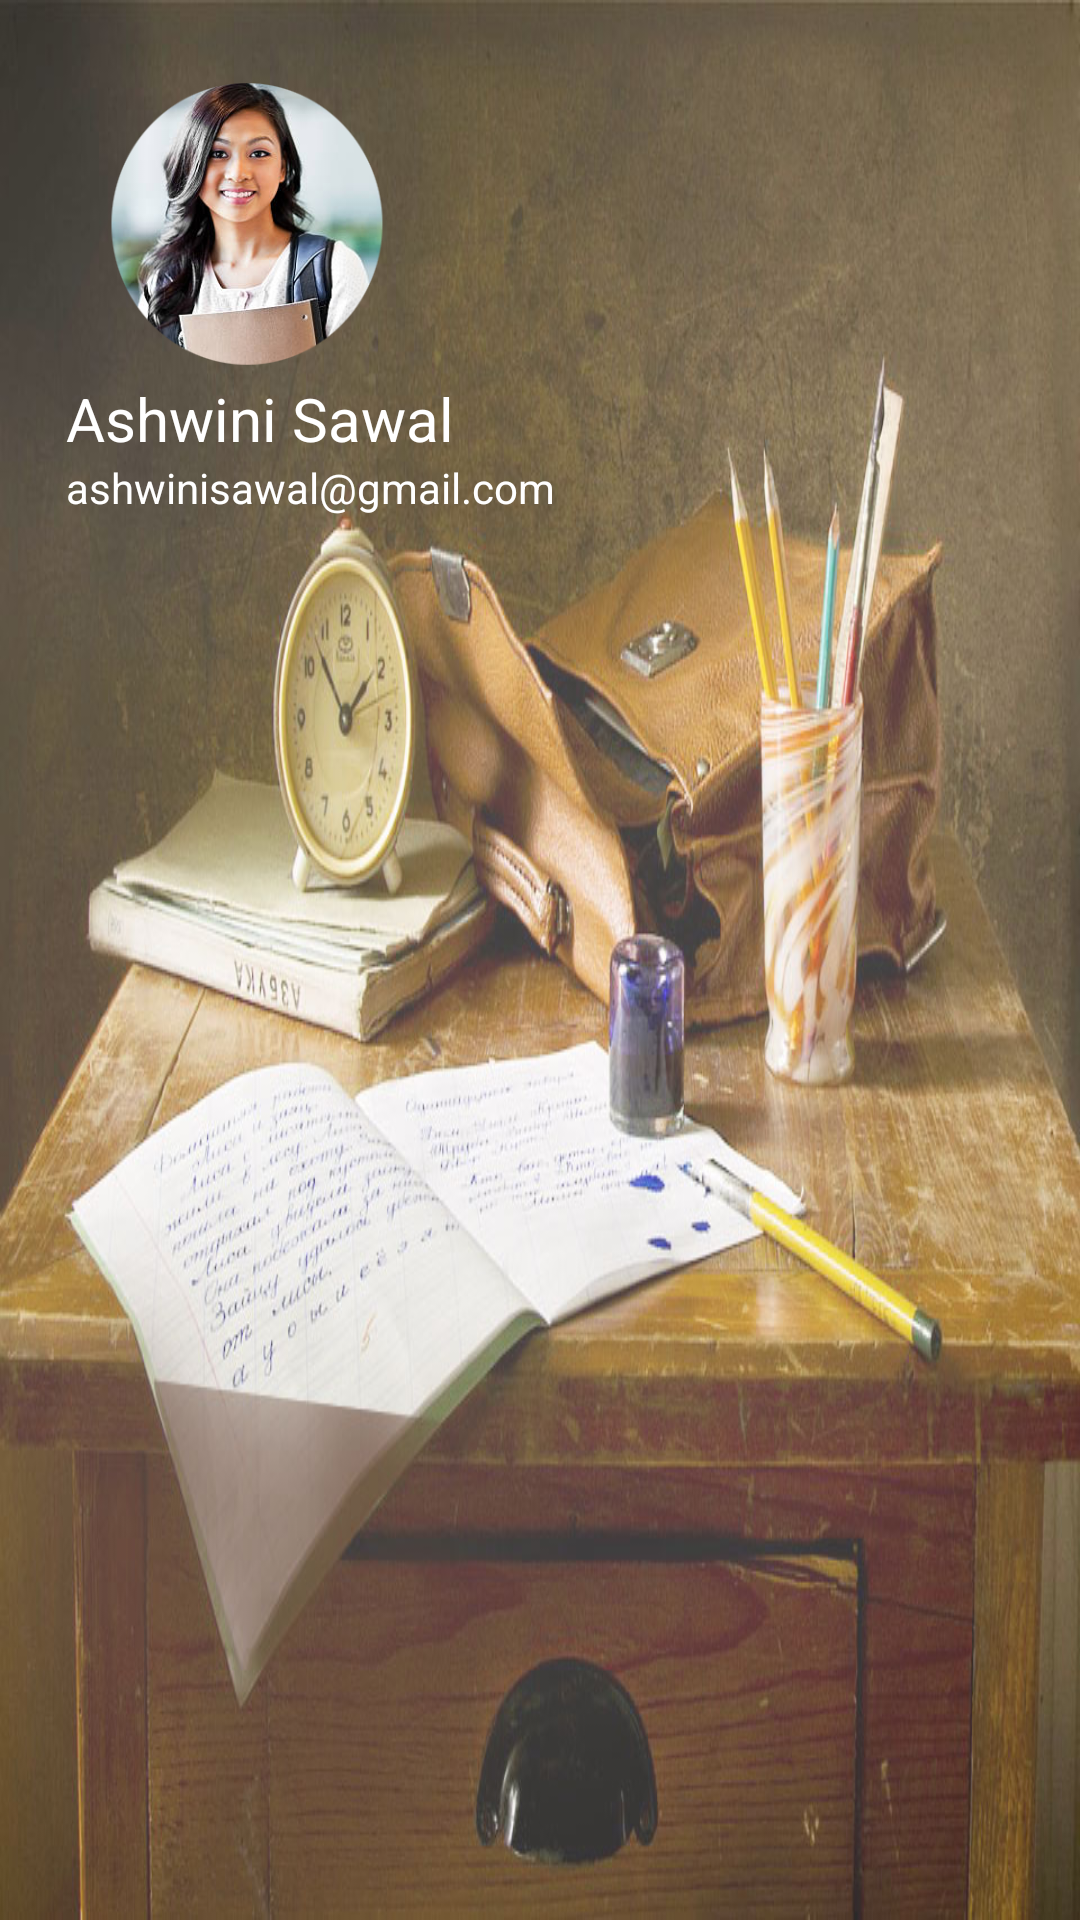

Where icons sit on this 1080x1920 app screen, as box(x1, y1, x2, y2):
student: box(111, 83, 393, 365)
